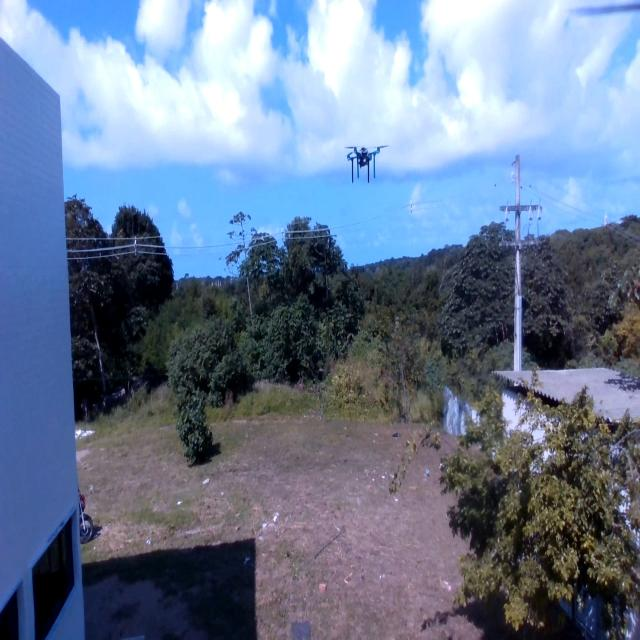-uav-: (338, 130, 390, 192)
